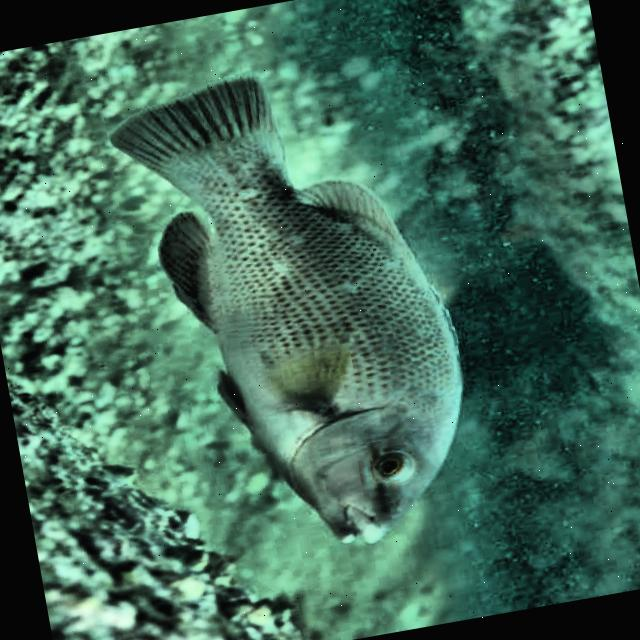fish: (100, 43, 508, 577)
